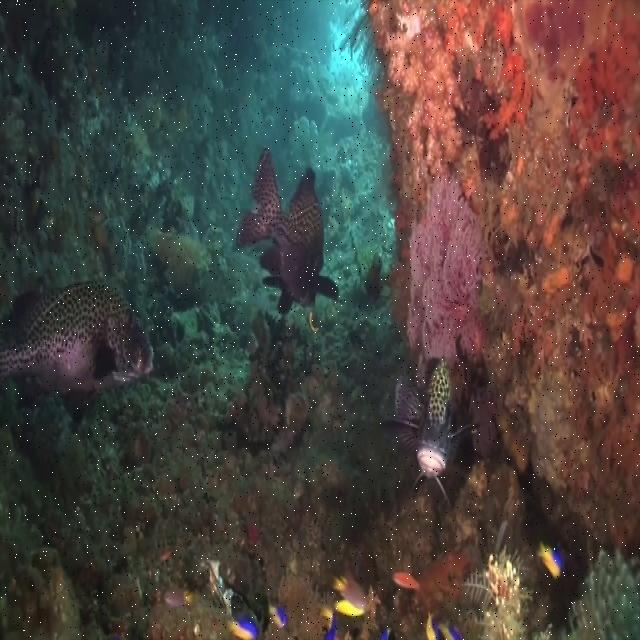fish: (2, 280, 155, 400), (234, 147, 340, 315), (383, 357, 484, 505), (331, 573, 371, 615), (535, 539, 564, 578), (226, 614, 258, 639), (393, 572, 420, 593), (268, 601, 286, 627), (426, 612, 441, 638), (438, 623, 462, 638)
reefs: (361, 0, 639, 567)
